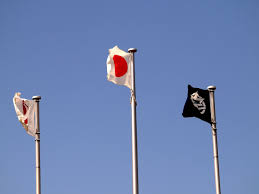Japanese Flag: (101, 45, 143, 94)
